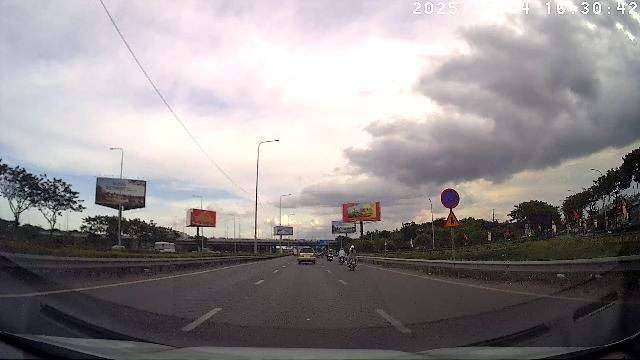130-cam-dung-va-do-xe: (441, 188, 460, 209)
